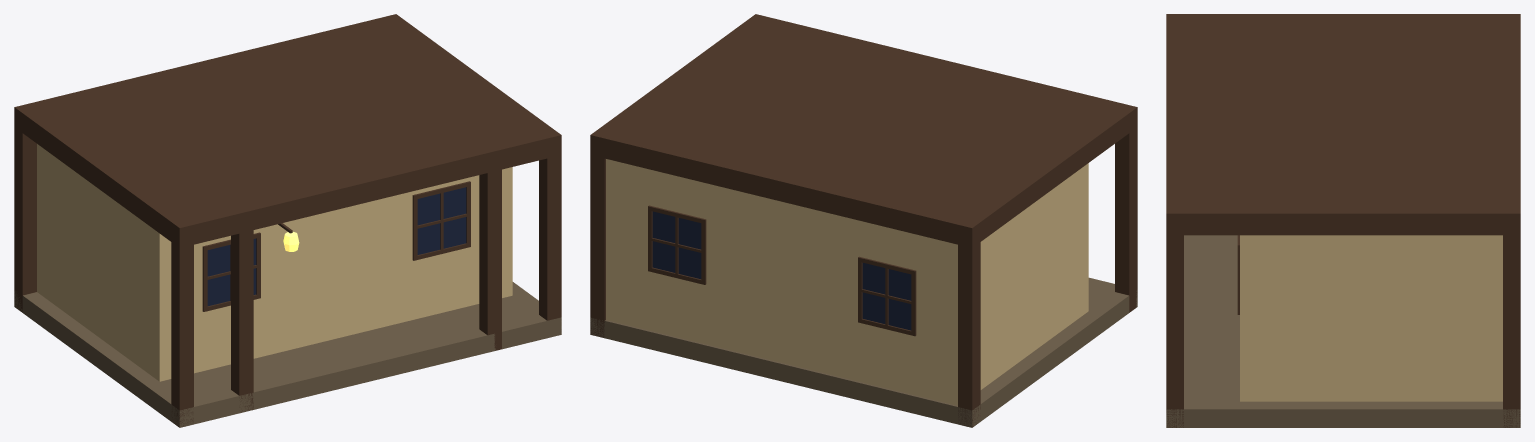
Rendered from env_house_shop_body.glb.
3 views of the same model, side by side, from view 1: azimuth 30°, elevation 25°; view 2: azimuth 150°, elevation 25°; view 3: azimuth 270°, elevation 25° (orthographic). The views are drawn at different scales.
Visible parts, largest first — view 1: ENV_House_Shop_Body; view 2: ENV_House_Shop_Body; view 3: ENV_House_Shop_Body.
Part boxes in pixels (<box>): ENV_House_Shop_Body: <box>14,14,561,427</box>; ENV_House_Shop_Body: <box>590,14,1137,427</box>; ENV_House_Shop_Body: <box>1166,14,1520,427</box>.
Size of the model in its own units: 8 by 4 by 6.
